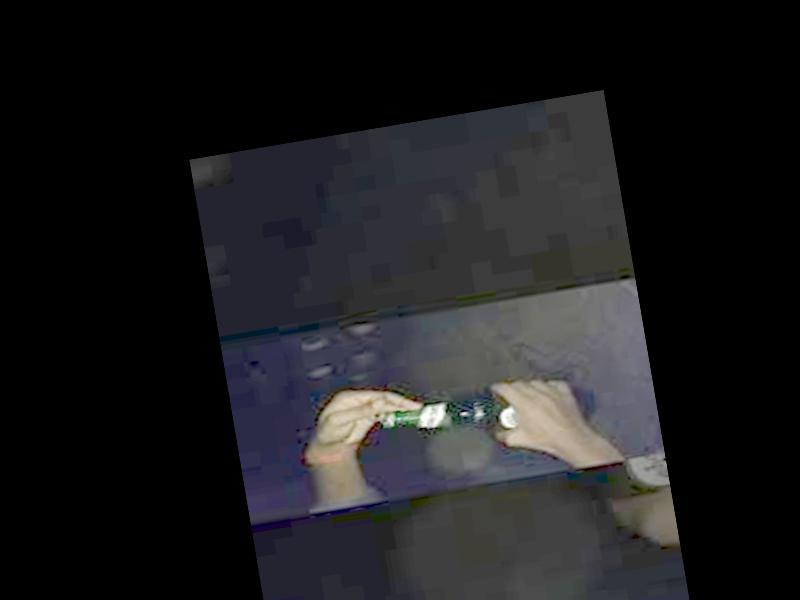Beer: (381, 373, 596, 459)
